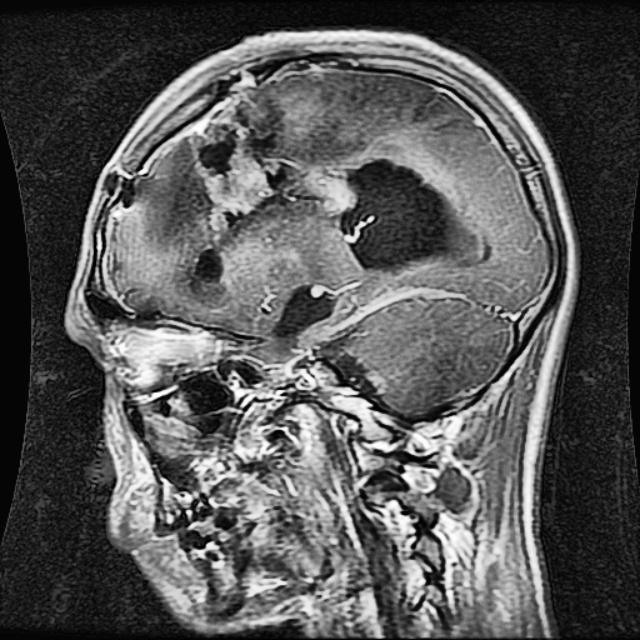Meningioma: (143, 84, 467, 304)
